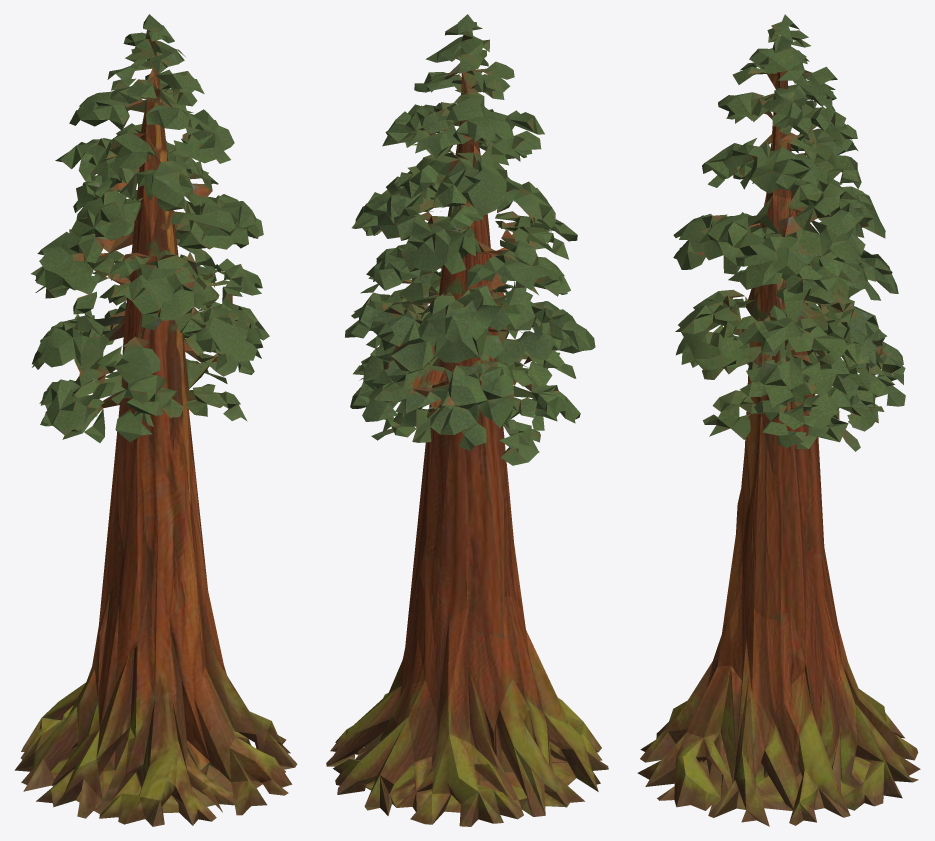
The model's file is VEG-003.glb.
3 renders of one model, left to right at view 1: azimuth 30°, elevation 25°; view 2: azimuth 150°, elevation 25°; view 3: azimuth 270°, elevation 25°, orthographic.
Parts seen in each view (by area): view 1: VEG-003_LOD0; view 2: VEG-003_LOD0; view 3: VEG-003_LOD0.
Part boxes in pixels (x1,y1,x2,y2): VEG-003_LOD0: (14, 14, 297, 826); VEG-003_LOD0: (326, 14, 608, 826); VEG-003_LOD0: (637, 14, 920, 826).
Size of what is drawn, in the model's own units: 9.81 by 28 by 9.59.
Materials: 1 (1 with a texture image).
